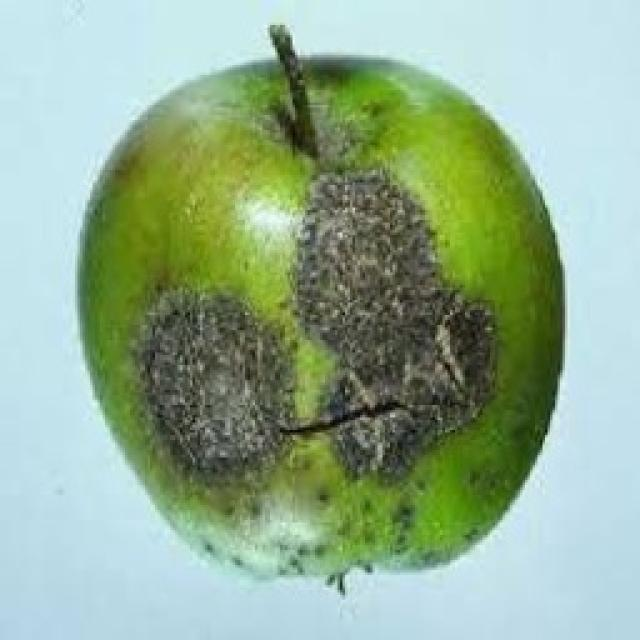defective: (72, 20, 568, 595)
